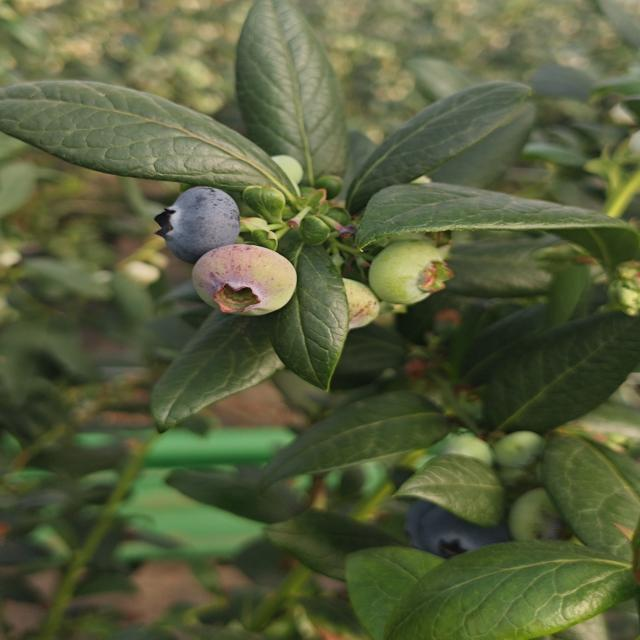ripe: (400, 488, 518, 566), (154, 183, 244, 261)
